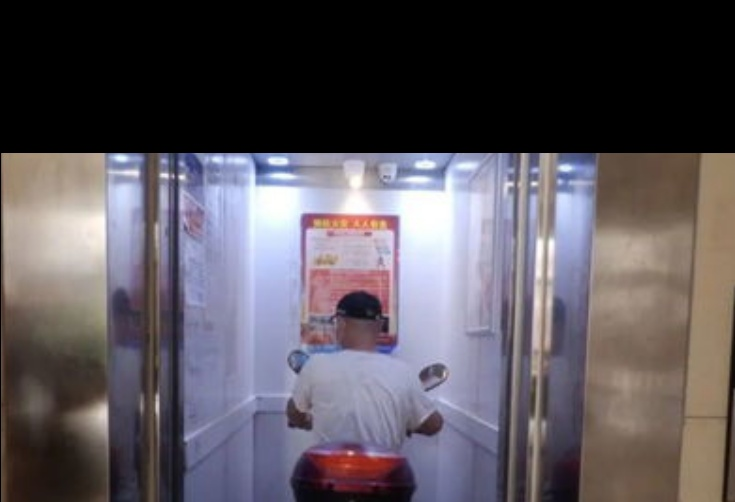ebike: (278, 349, 447, 502)
person: (289, 291, 440, 448)
